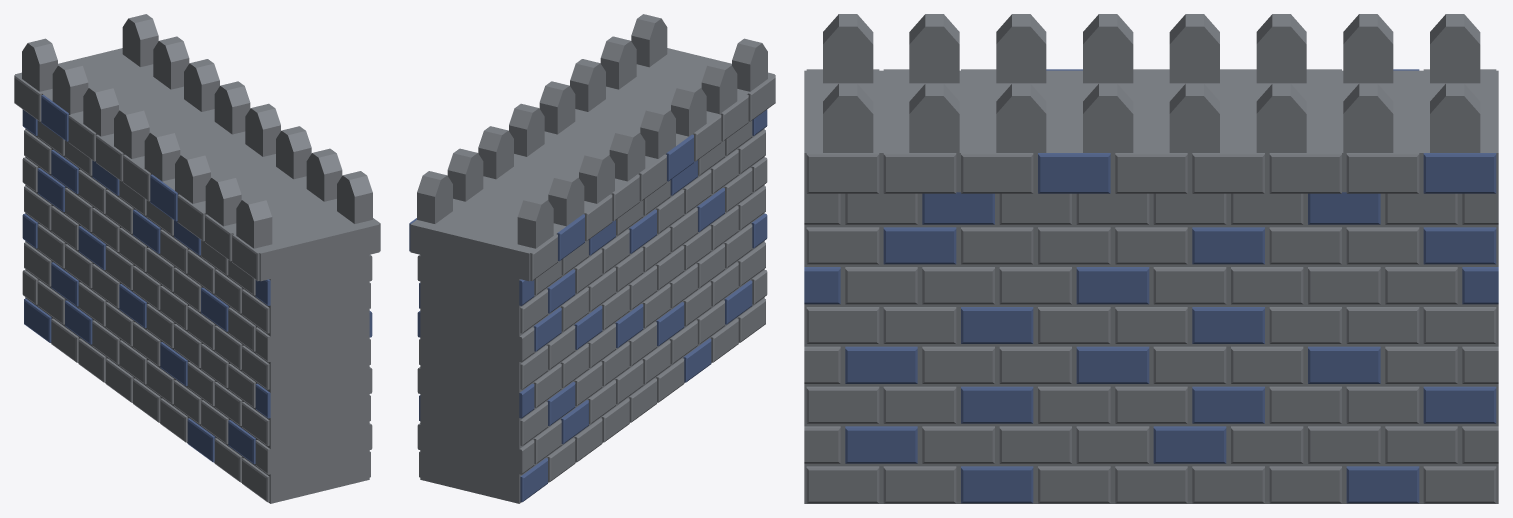
Rendered from wall_test_normal.glb.
The picture shows the model from 3 angles, left to right: view 1: azimuth 30°, elevation 25°; view 2: azimuth 150°, elevation 25°; view 3: azimuth 270°, elevation 25°; orthographic projection. The views are drawn at different scales.
Visible parts, largest first — view 1: Wall.Primary9, Wall.Secondary9; view 2: Wall.Primary9, Wall.Secondary9; view 3: Wall.Primary9, Wall.Secondary9.
Part boxes in pixels (bbox=[...]): Wall.Primary9: bbox=[14, 14, 380, 503]; Wall.Secondary9: bbox=[22, 94, 372, 464]; Wall.Primary9: bbox=[410, 14, 775, 503]; Wall.Secondary9: bbox=[409, 109, 767, 502]; Wall.Primary9: bbox=[804, 14, 1498, 503]; Wall.Secondary9: bbox=[804, 69, 1498, 503].
Size of the model in its own units: 0.8801 by 1.98 by 3.
